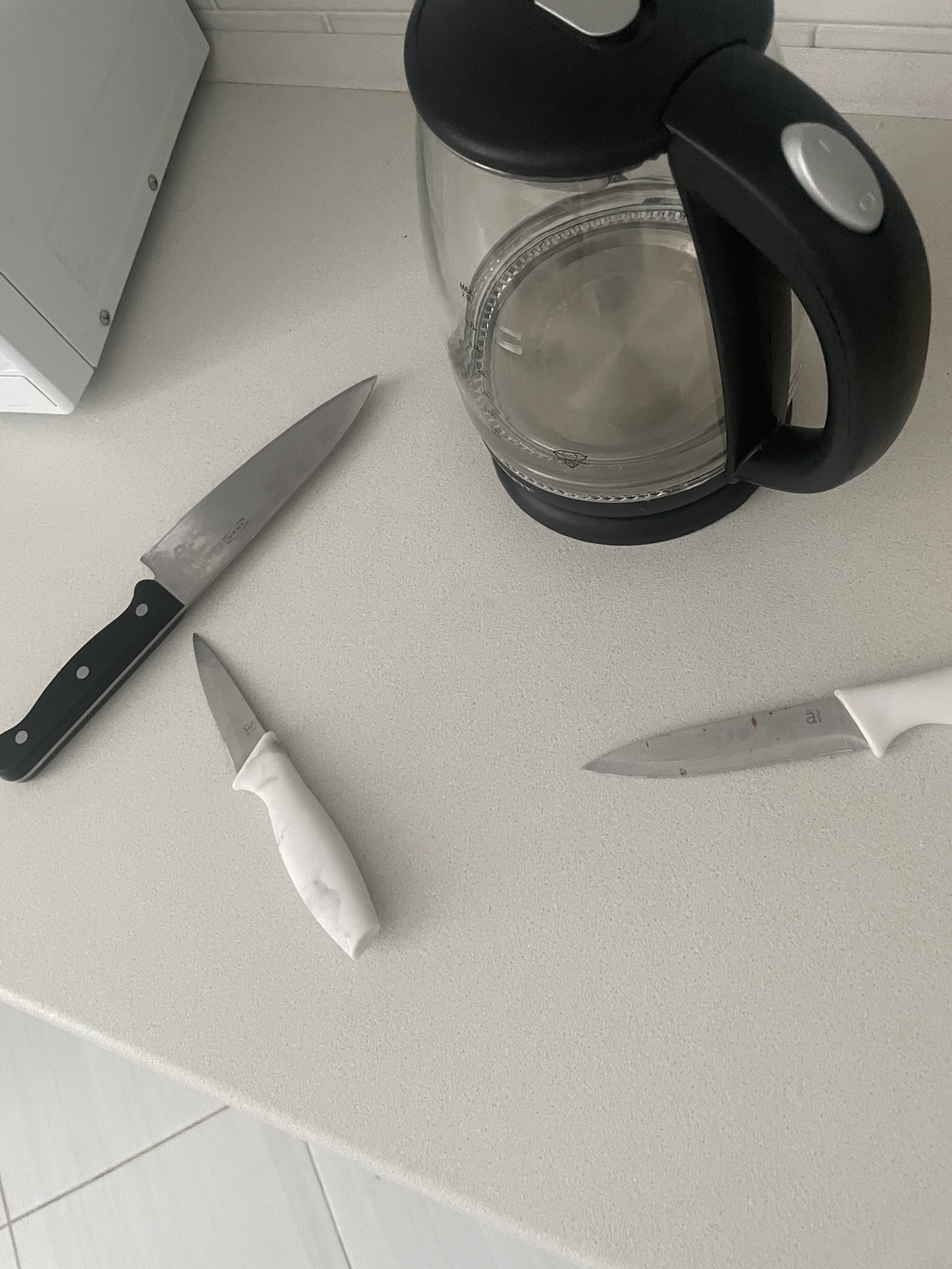knife: (0, 375, 380, 785), (190, 632, 382, 966), (578, 672, 952, 781)
